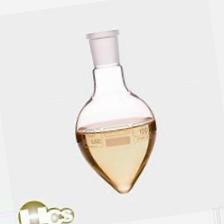Pear shaped flask: (65, 10, 158, 199)
